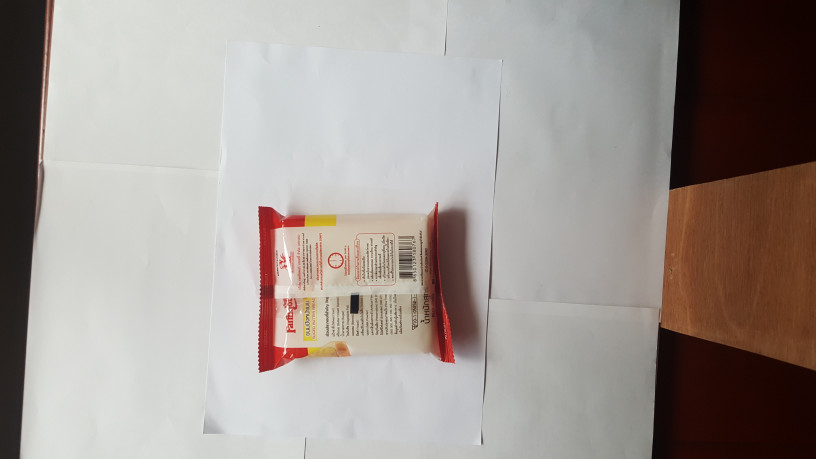farmhouse-bread-butter: (253, 200, 458, 381)
